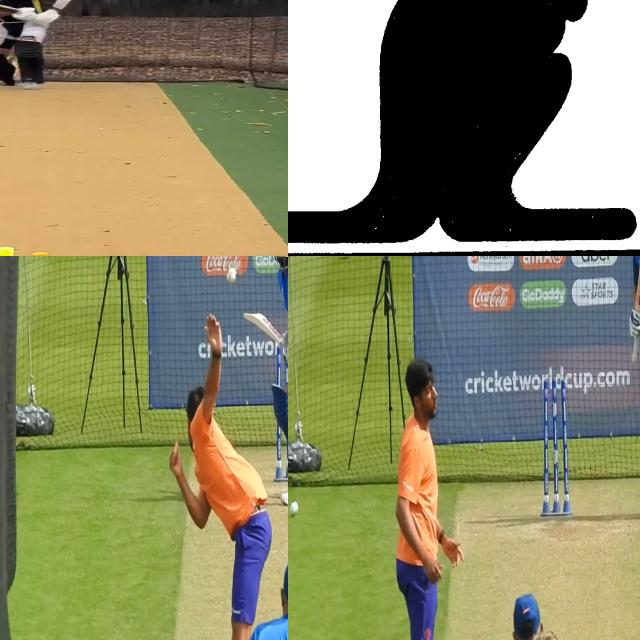Cricket ball: (226, 263, 240, 290), (290, 499, 299, 519)
Stumps: (542, 375, 571, 518)
